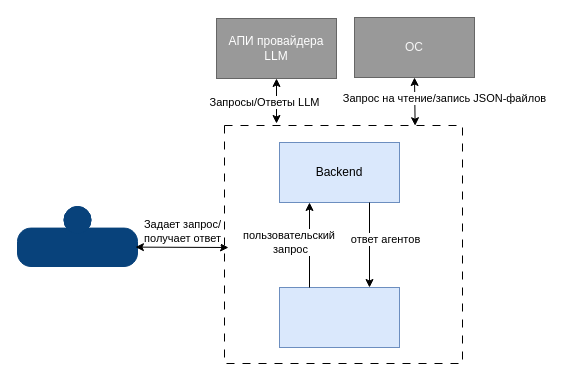
Some shapes in this 563 by 381 pixel diagram are drawn without their labels. Each missing label, with the box of its shape:
UI: (278, 286, 400, 348)
Пользователь: (16, 206, 138, 266)
